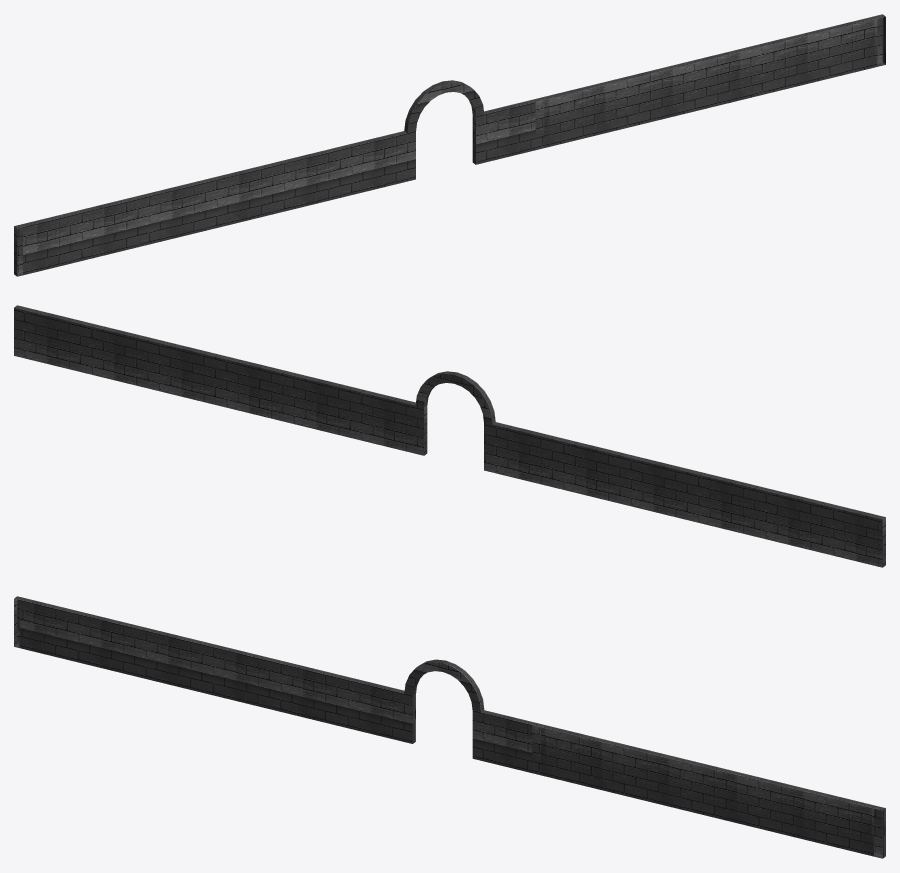
File: Entrada.obj
3 renders of one model, top to bottom at view 1: azimuth 30°, elevation 25°; view 2: azimuth 150°, elevation 25°; view 3: azimuth 330°, elevation 25°, orthographic.
Parts seen in each view (by area): view 1: Entrada; view 2: Entrada; view 3: Entrada.
Boxes of the visible parts, left/top/right/bottom form: Entrada: left=14, top=14, right=885, bottom=276; Entrada: left=14, top=305, right=885, bottom=567; Entrada: left=14, top=596, right=885, bottom=858.
Bounding box in the file's own units: 302 × 29.37 × 2.
Materials: 1 (1 with a texture image).
